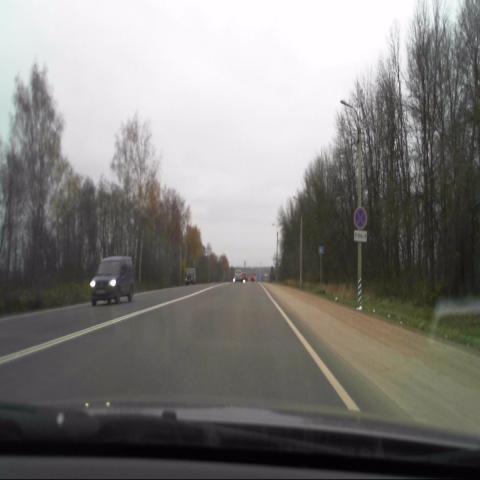3_27: (354, 205, 368, 229)
